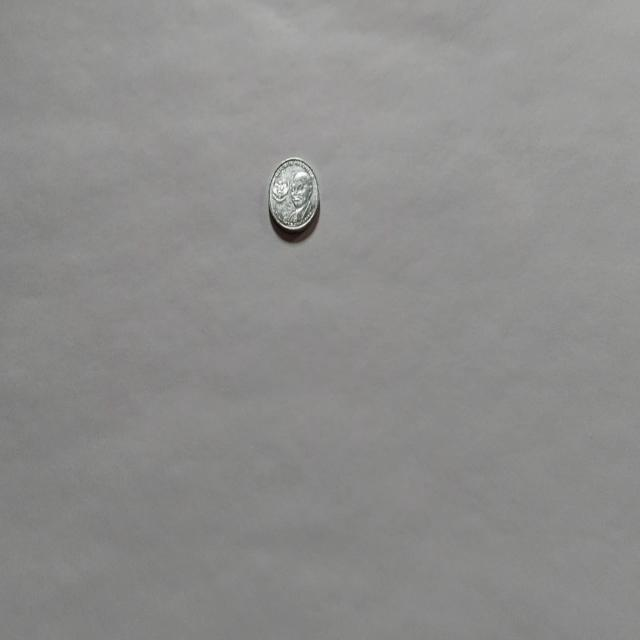lima ratus rupiah: (266, 156, 320, 234)
